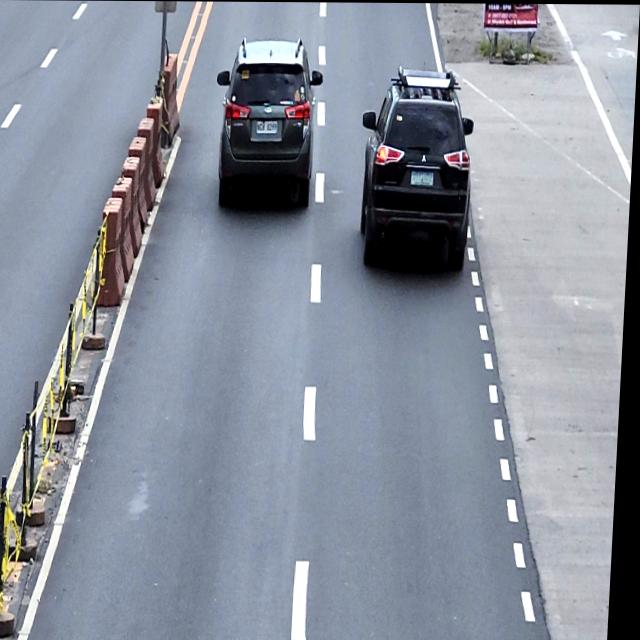Car: (358, 64, 478, 270), (212, 35, 325, 208)
License-Plate: (412, 169, 436, 186), (257, 120, 280, 135)
